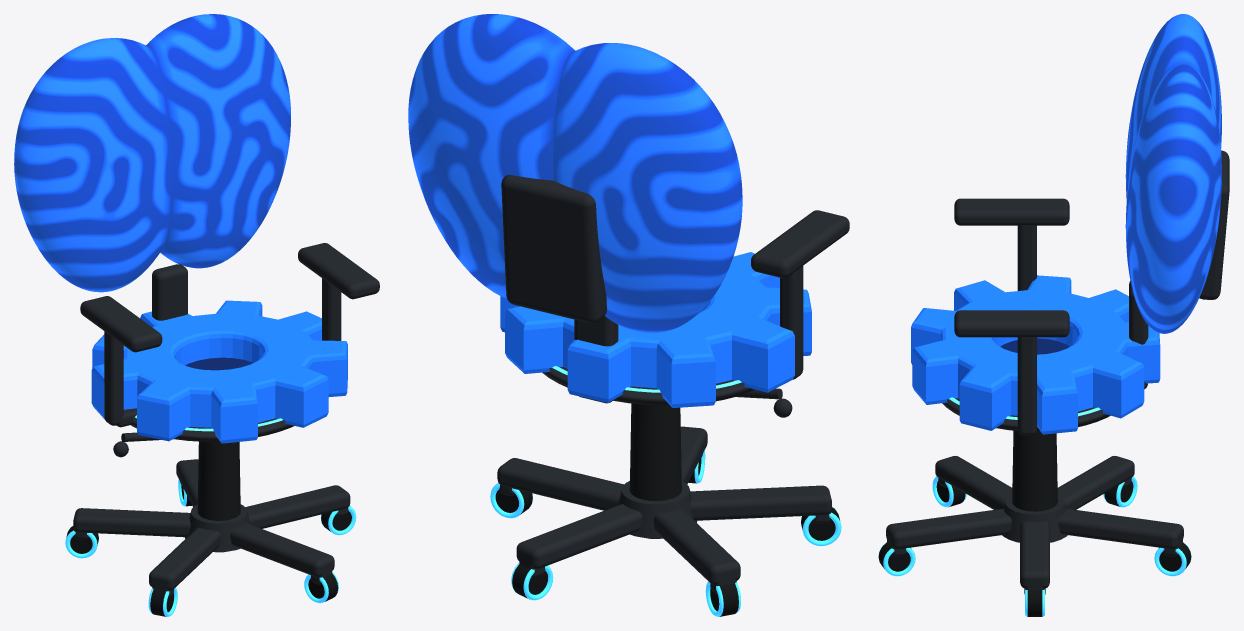
Rendered from cadeira_da_descompressao.glb.
3 views of the same model, side by side, from view 1: azimuth 30°, elevation 25°; view 2: azimuth 150°, elevation 25°; view 3: azimuth 270°, elevation 25° (orthographic). The views are drawn at different scales.
Parts seen in each view (by area): view 1: hemisferio_e, hemisferio_d, assento_engrenagem, pistao, braco_2, braco_4, braco_0, apoio_-1, apoio_1, braco_3, suporte_encosto, poste_braco_-1 (+5 smaller); view 2: hemisferio_e, hemisferio_d, assento_engrenagem, suporte_cerebro, pistao, braco_3, braco_1, braco_0, apoio_-1, braco_2, poste_braco_-1, cubo (+4 smaller); view 3: assento_engrenagem, hemisferio_d, hemisferio_e, pistao, braco_4, braco_1, apoio_-1, apoio_1, braco_2, braco_3, poste_braco_1, braco_0 (+7 smaller).
Boxes of the visible parts, x1,y1,x2,y2 form: hemisferio_e: (14,38,171,292); hemisferio_d: (146,14,290,268); assento_engrenagem: (91,300,347,443); pistao: (197,441,240,552); braco_2: (73,508,190,537); braco_4: (230,523,334,577); braco_0: (245,485,350,528); apoio_-1: (80,296,162,352); apoio_1: (298,243,379,299); braco_3: (149,527,220,590); suporte_encosto: (152,264,187,320); poste_braco_-1: (104,331,123,425); hemisferio_e: (553,43,742,333); hemisferio_d: (408,14,575,298); assento_engrenagem: (500,252,811,407); suporte_cerebro: (501,175,606,323); pistao: (629,403,681,538); braco_3: (690,485,831,520); braco_1: (516,504,642,568); braco_0: (497,458,624,510); apoio_-1: (751,210,849,278); braco_2: (653,509,740,584); poste_braco_-1: (780,266,803,379); cubo: (618,481,697,538); assento_engrenagem: (911,275,1160,434); hemisferio_d: (1125,64,1221,333); hemisferio_e: (1125,14,1221,199); pistao: (1012,430,1057,511); braco_4: (886,508,1011,549); braco_1: (1058,508,1183,549); apoio_-1: (954,198,1069,225); apoio_1: (954,310,1069,337); braco_2: (1057,456,1134,509); braco_3: (935,456,1012,509); poste_braco_1: (1017,337,1036,435); braco_0: (1020,521,1049,588).
Bounding box in the file's own units: 0.7729 × 1.31 × 0.8229.
11 materials, 1 textured.
